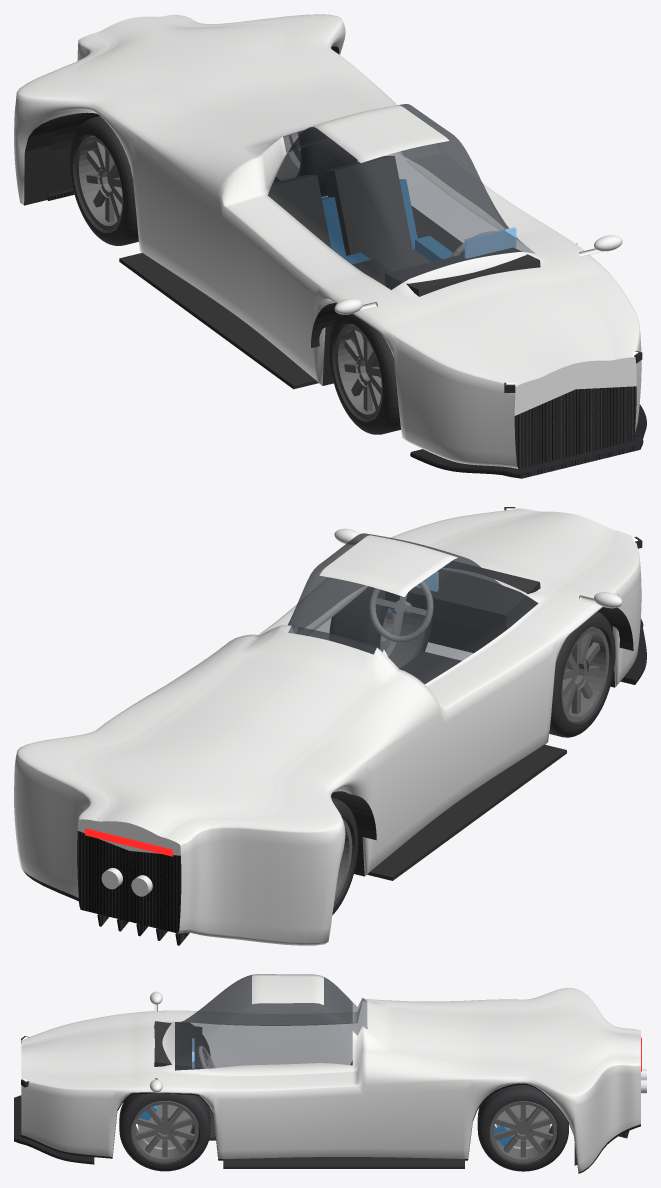
Rendered from maserati-mc20.glb.
The picture shows the model from 3 angles, top to bottom: view 1: azimuth 30°, elevation 25°; view 2: azimuth 150°, elevation 25°; view 3: azimuth 270°, elevation 25°; orthographic projection. The views are drawn at different scales.
Visible parts, largest first — view 1: Body_PrimaryPaint, Glass_Windows, Carbon_Exterior, Interior_Seats, WheelWells, Rim_FR, Underbody, Rim_RR, Tire_RR, Tire_FR, Interior_Dashboard, Interior_SeatBolsters (+2 smaller); view 2: Body_PrimaryPaint, Glass_Windows, Carbon_Exterior, WheelWells, Interior_Dashboard, Rim_FR, Tire_FR, Tire_FL, Underbody, Interior_SteeringWheel, Rim_FL, Interior_Tub (+4 smaller); view 3: Body_PrimaryPaint, Glass_Windows, Tire_RL, Tire_FL, WheelWells, Rim_FL, Rim_RL, Interior_Dashboard, Carbon_Exterior, Underbody, BrakeDisc_FL, BrakeDisc_RL.
Boxes of the visible parts, box(x1,y1,x2,y2) form: Body_PrimaryPaint: box(14, 14, 641, 468); Glass_Windows: box(268, 104, 535, 289); Carbon_Exterior: box(47, 188, 646, 478); Interior_Seats: box(268, 156, 430, 271); WheelWells: box(51, 112, 577, 389); Rim_FR: box(335, 324, 382, 419); Underbody: box(24, 46, 339, 385); Rim_RR: box(76, 135, 123, 230); Tire_RR: box(70, 116, 138, 245); Tire_FR: box(329, 313, 400, 434); Interior_Dashboard: box(384, 247, 540, 296); Interior_SeatBolsters: box(322, 179, 452, 264); Body_PrimaryPaint: box(14, 508, 641, 945); Glass_Windows: box(288, 533, 538, 683); Carbon_Exterior: box(77, 619, 646, 945); WheelWells: box(331, 607, 633, 880); Interior_Dashboard: box(385, 561, 540, 634); Rim_FR: box(561, 627, 609, 722); Tire_FR: box(549, 611, 615, 737); Tire_FL: box(329, 586, 432, 655); Underbody: box(23, 618, 614, 901); Interior_SteeringWheel: box(369, 581, 433, 642); Rim_FL: box(379, 608, 424, 668); Interior_Tub: box(400, 651, 461, 677); Body_PrimaryPaint: box(21, 974, 640, 1172); Glass_Windows: box(175, 975, 367, 1070); Tire_RL: box(477, 1085, 568, 1171); Tire_FL: box(119, 1093, 210, 1171); WheelWells: box(223, 1157, 464, 1168); Rim_FL: box(131, 1101, 198, 1162); Rim_RL: box(489, 1101, 556, 1162); Interior_Dashboard: box(154, 1021, 202, 1070); Carbon_Exterior: box(14, 1095, 629, 1165); Underbody: box(21, 1083, 640, 1173); BrakeDisc_FL: box(138, 1104, 191, 1149); BrakeDisc_RL: box(496, 1105, 550, 1148).
Size of the model in its own units: 1.97 by 1.22 by 4.77.
16 materials, 2 textured.
